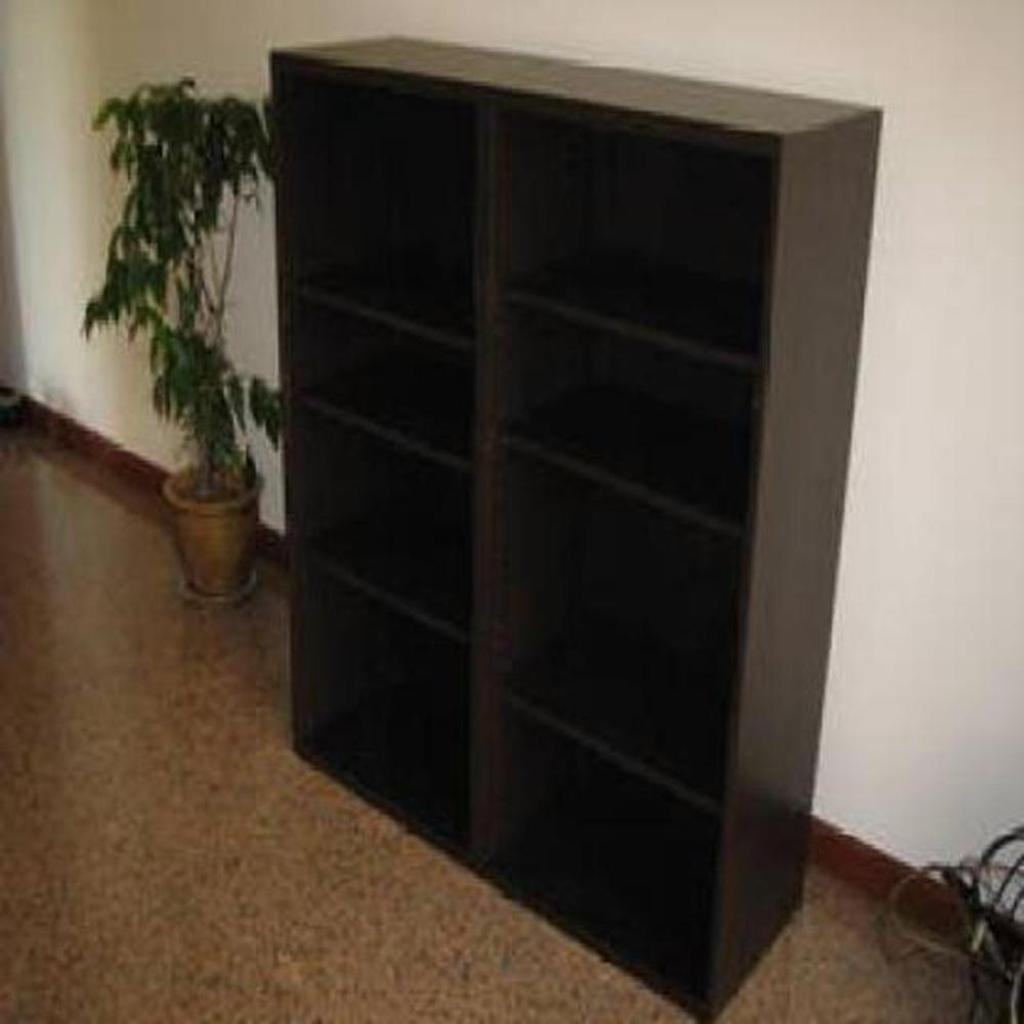lamp: (266, 30, 886, 1019)
